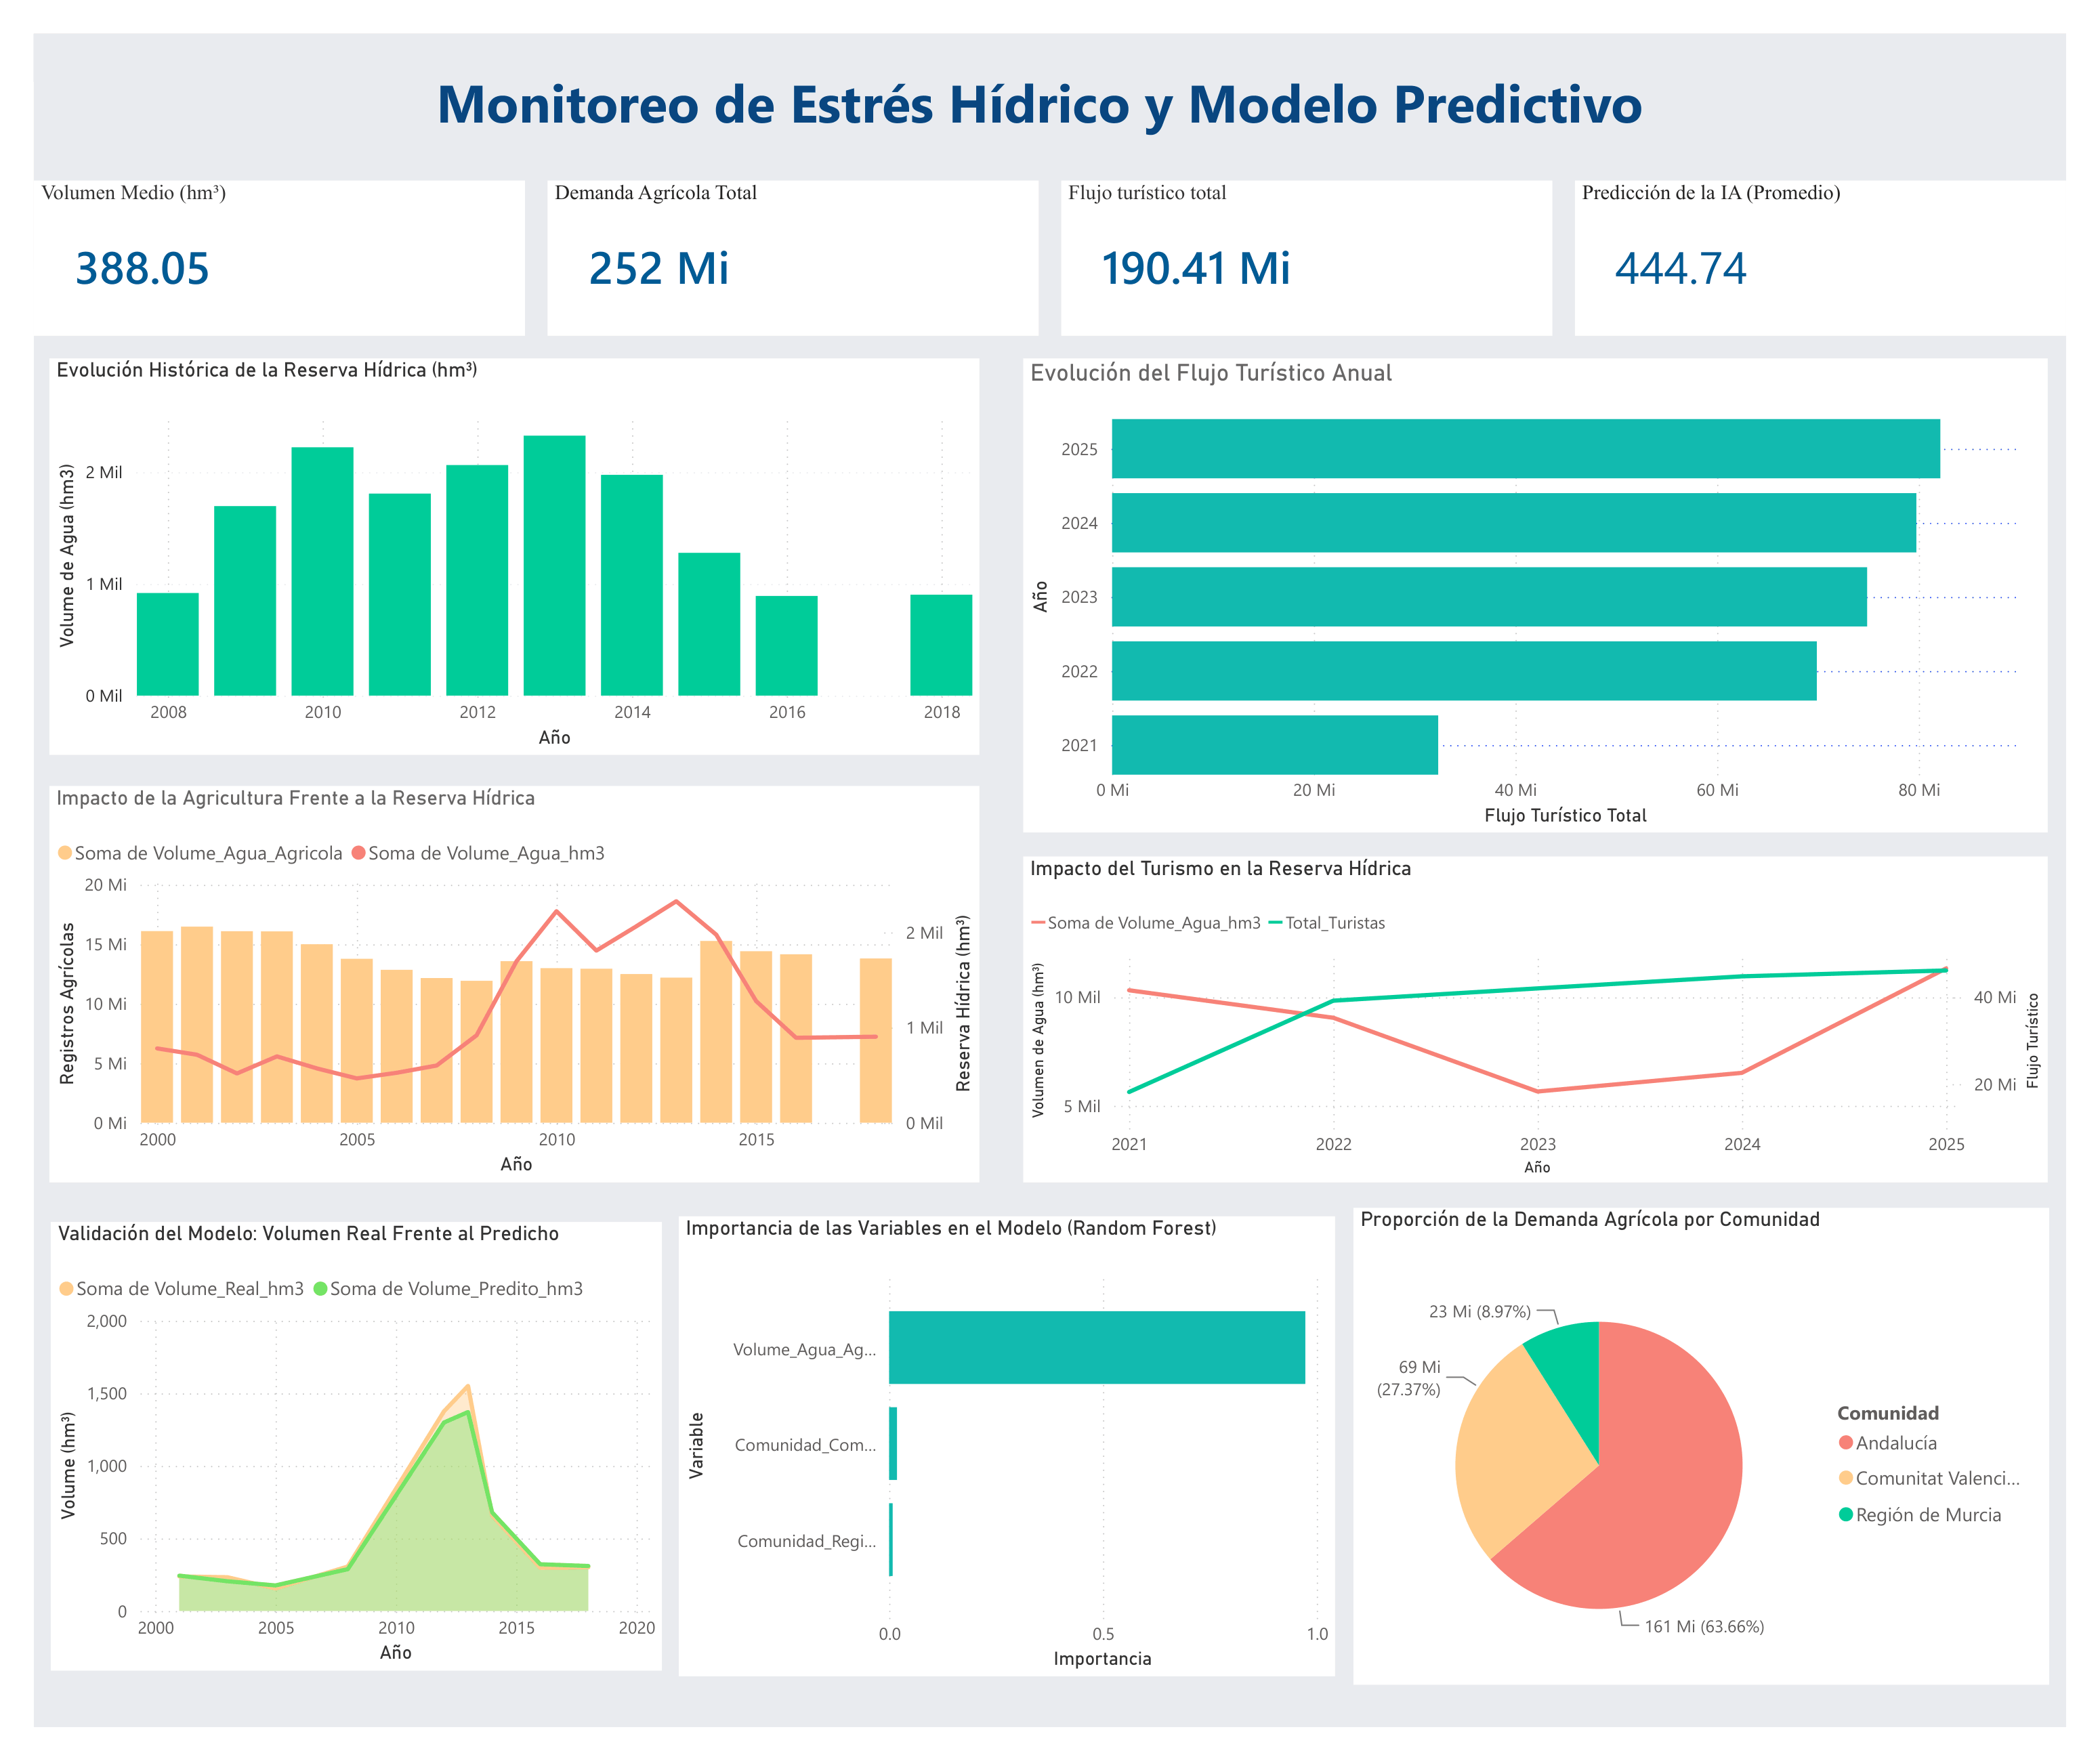

This screenshot's page, from the dashboard's own definition file:
{"tool":"powerbi","page":{"name":"Página 1","canvas":[1440,1200],"ordinal":0},"visuals":[{"type":"lineChart","title":"Impacto del Turismo en la Reserva Hídrica","fields":{"Y":["Sum(tabela_master_seca_turismo.Volume_Agua_hm3)"],"Y2":["tabela_master_seca_turismo.Total_Turistas"],"Category":["tabela_master_seca_turismo.Ano"]},"box":[701.4,582.9,725.7,231.4],"z":0},{"type":"columnChart","title":"Evolución Histórica de la Reserva Hídrica (hm³)","fields":{"Category":["tabela_master_seca_agricultura(1).Ano"],"Y":["Sum(tabela_master_seca_agricultura(1).Volume_Agua_hm3)"]},"box":[11.4,230,658.6,281.4],"z":1000},{"type":"lineClusteredColumnComboChart","title":"Impacto de la Agricultura Frente a la Reserva Hídrica","fields":{"Category":["tabela_master_seca_agricultura(1).Ano"],"Y":["Sum(tabela_master_seca_agricultura(1).Volume_Agua_Agricola)"],"Y2":["Sum(tabela_master_seca_agricultura(1).Volume_Agua_hm3)"]},"box":[11.4,532.9,658.6,281.4],"z":2000},{"type":"barChart","title":"Evolución del Flujo Turístico Anual","fields":{"Category":["tabela_master_seca_turismo.Ano"],"Y":["Sum(tabela_master_seca_turismo.Valor)"]},"box":[701.4,230,725.7,335.7],"z":3000},{"type":"barChart","title":"Importancia de las Variables en el Modelo (Random Forest)","fields":{"Category":["importancia_rf_corrigida.Variável"],"Y":["Sum(importancia_rf_corrigida.Importância)"]},"box":[456.8,837.7,465.6,326.4],"z":4000},{"type":"areaChart","title":"Validación del Modelo: Volumen Real Frente al Predicho","fields":{"Category":["tabela_predicoes_rf.Ano"],"Y":["Sum(tabela_predicoes_rf.Volume_Real_hm3)","Sum(tabela_predicoes_rf.Volume_Predito_hm3)"]},"box":[11.8,842.4,432.9,317.1],"z":5000},{"type":"cardVisual","title":"Volumen Medio (hm³)","fields":{"Data":["Avg(base_hidrica_final_limpa.Volume_Agua_hm3)"]},"box":[0,104.1,348,110],"z":6000},{"type":"cardVisual","title":"Demanda Agrícola Total","fields":{"Data":["Sum(base_hidrica_final_limpa.Volume_Agua_Agricola)"]},"box":[363.9,104.1,348,110],"z":7000},{"type":"cardVisual","title":"Flujo turístico total","fields":{"Data":["tabela_master_seca_turismo.Total_Turistas"]},"box":[727.7,104.1,348,110],"z":8000},{"type":"cardVisual","title":"Predicción de la IA (Promedio)","fields":{"Data":["Avg(tabela_predicoes_rf.Volume_Predito_hm3)"]},"box":[1091.6,104.1,348,110],"z":9000},{"type":"pieChart","title":"Proporción de la Demanda Agrícola por Comunidad","fields":{"Category":["tabela_master_seca_agricultura(1).Comunidad"],"Y":["Sum(tabela_master_seca_agricultura(1).Volume_Agua_Agricola)"]},"box":[934.6,832.4,492.9,337.1],"z":10000},{"type":"textbox","box":[280,17.5,880.6,71.7],"z":11000}]}

Visuals, with their boxes on the page's 1440x1200 design canvas (x1, y1, x2, y2). These are canvas units, not pixel positions in the 2100x1761 screenshot, which may show the page scaled, cropped or inside an application window:
"Impacto del Turismo en la Reserva Hídrica" lineChart: x1=701 y1=583 x2=1427 y2=814
"Evolución Histórica de la Reserva Hídrica (hm³)" columnChart: x1=11 y1=230 x2=670 y2=511
"Impacto de la Agricultura Frente a la Reserva Hídrica" lineClusteredColumnComboChart: x1=11 y1=533 x2=670 y2=814
"Evolución del Flujo Turístico Anual" barChart: x1=701 y1=230 x2=1427 y2=566
"Importancia de las Variables en el Modelo (Random Forest)" barChart: x1=457 y1=838 x2=922 y2=1164
"Validación del Modelo: Volumen Real Frente al Predicho" areaChart: x1=12 y1=842 x2=445 y2=1160
"Volumen Medio (hm³)" cardVisual: x1=0 y1=104 x2=348 y2=214
"Demanda Agrícola Total" cardVisual: x1=364 y1=104 x2=712 y2=214
"Flujo turístico total" cardVisual: x1=728 y1=104 x2=1076 y2=214
"Predicción de la IA (Promedio)" cardVisual: x1=1092 y1=104 x2=1440 y2=214
"Proporción de la Demanda Agrícola por Comunidad" pieChart: x1=935 y1=832 x2=1428 y2=1170
textbox: x1=280 y1=18 x2=1161 y2=89
